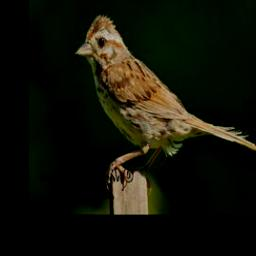Sparrow: (77, 12, 256, 197)
